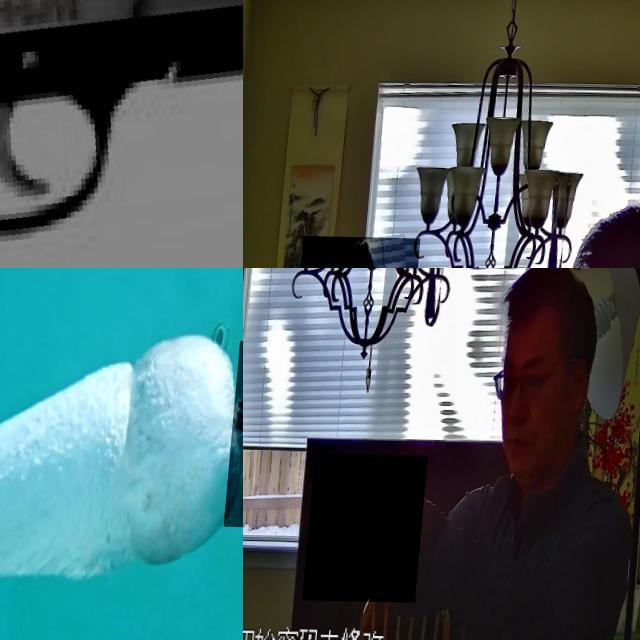gun-knife-thesis - v11 Yolov5 augmented: (0, 0, 243, 268), (312, 452, 436, 601), (297, 235, 424, 268)
